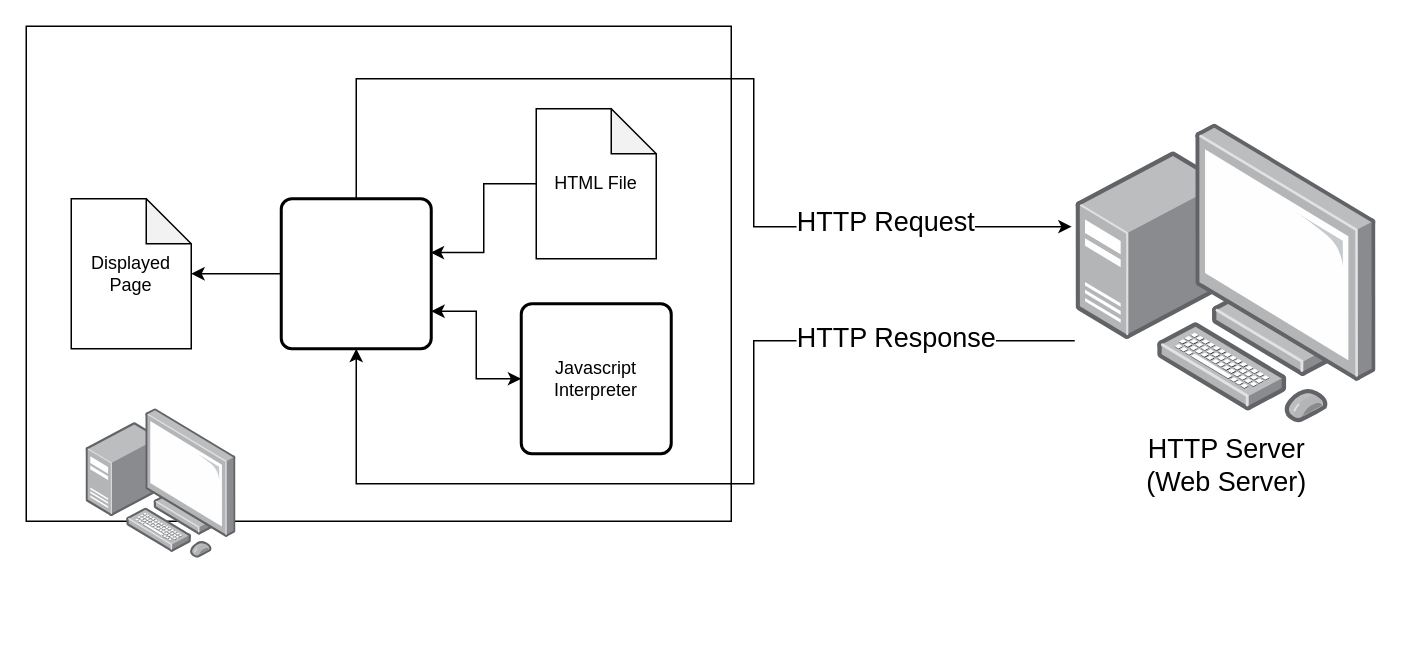
The diagram is 1403 pixels wide and 660 high, and some of its shapes have lost their labels. The shapes that lost their labels are listed below. From the top down, each one's centre as x and y in pixels, then its label:
At point (355, 273): "Browser Engine".
At point (161, 483): "HTTP Client (Web Browser)".
